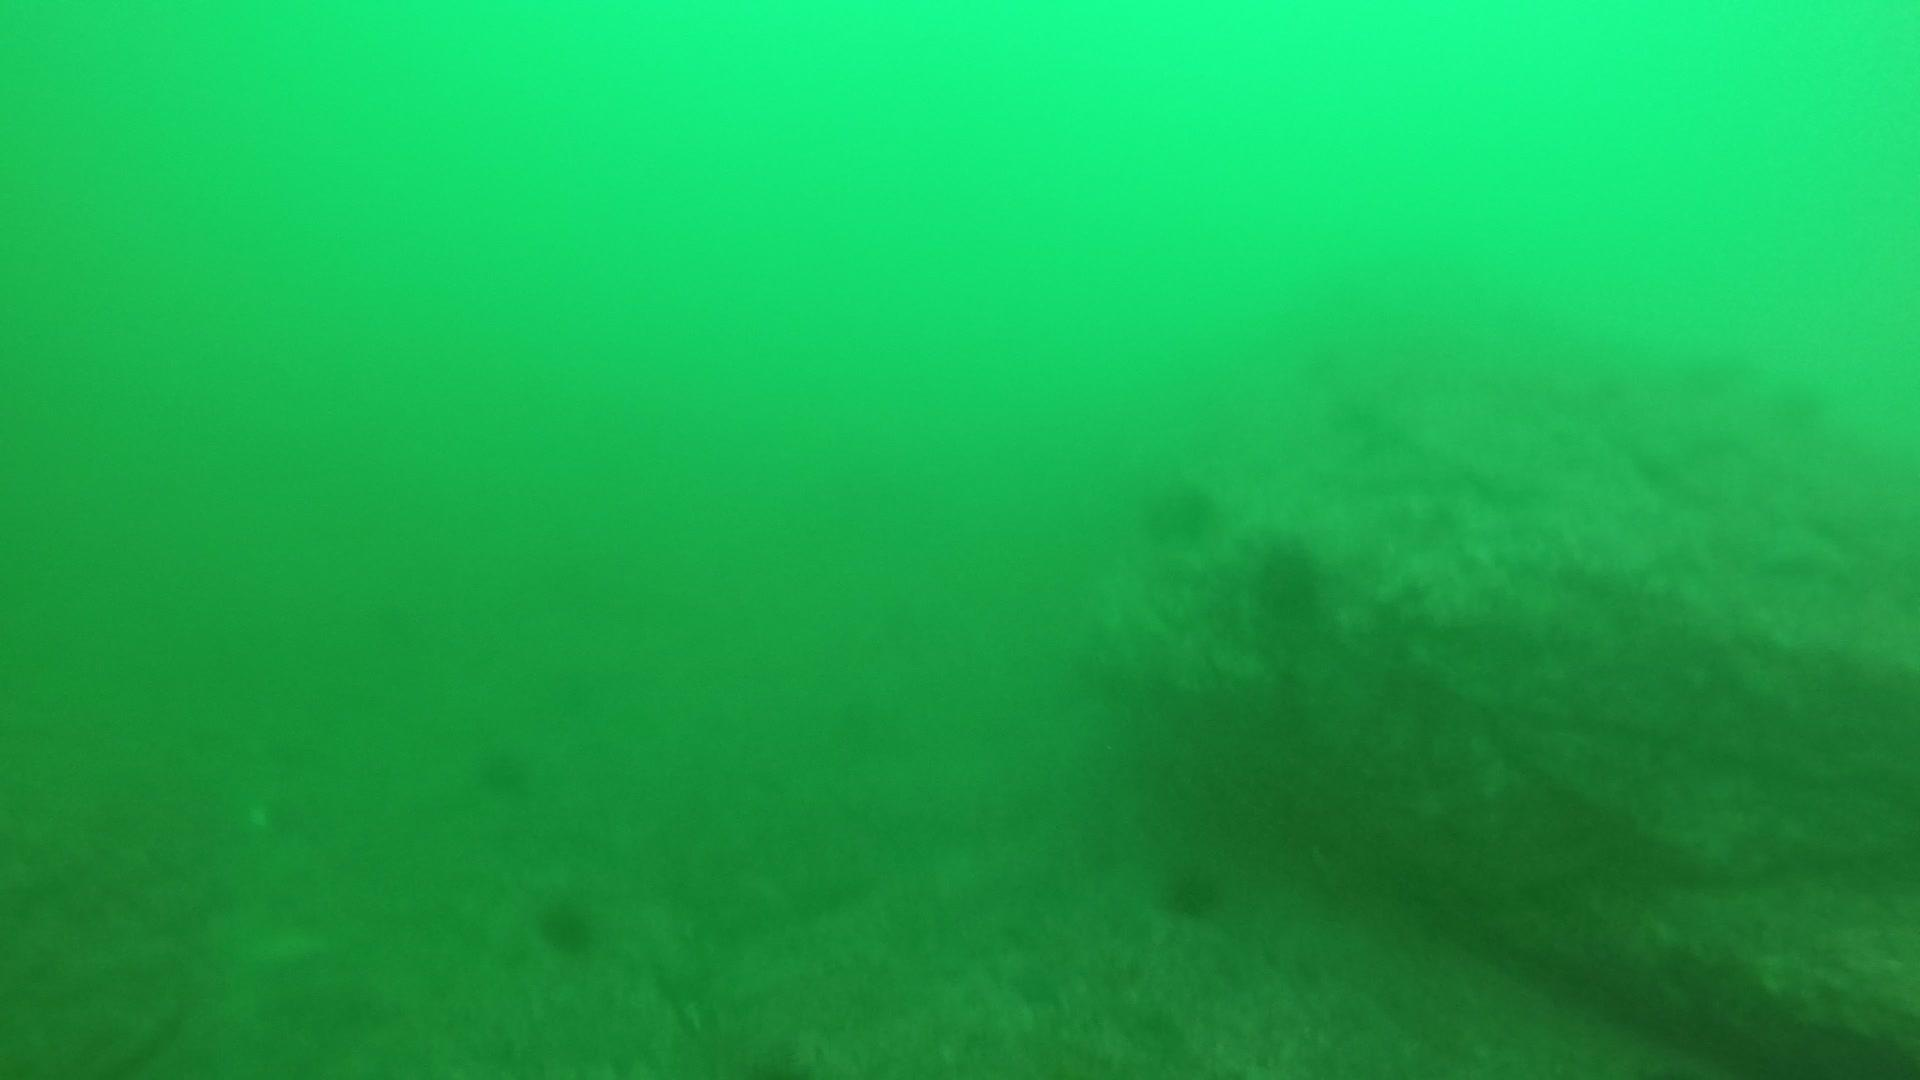echinus: (1246, 531, 1331, 624), (1135, 469, 1222, 546), (1153, 855, 1229, 924), (530, 889, 603, 957), (469, 737, 541, 800)
